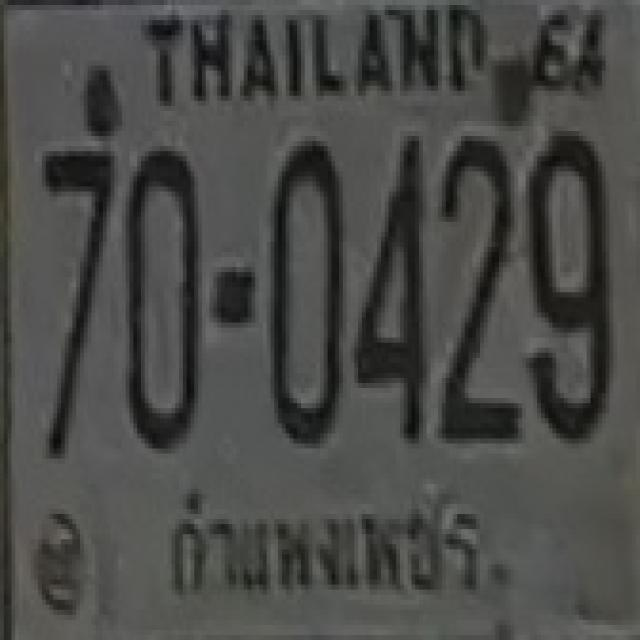0: (268, 136, 344, 444), (124, 146, 200, 449)
2: (440, 136, 512, 441)
4: (354, 133, 423, 441)
7: (39, 146, 114, 450)
9: (526, 133, 610, 441)
KPT: (163, 480, 487, 606)
